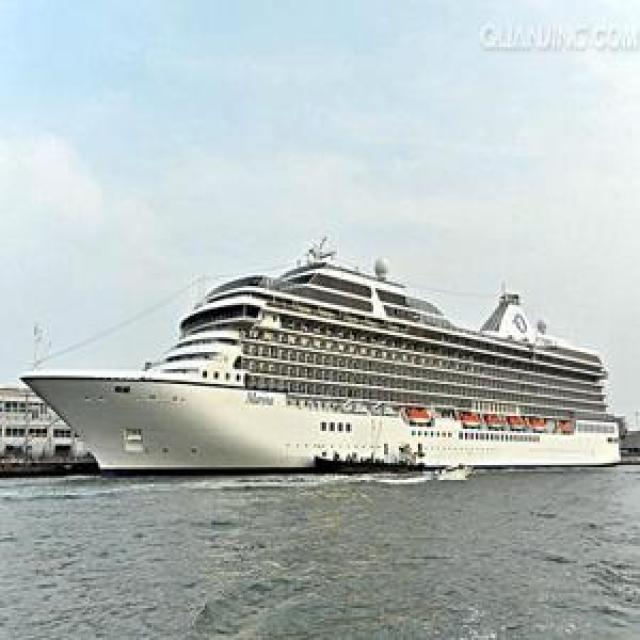passenger ship: (17, 248, 628, 477)
